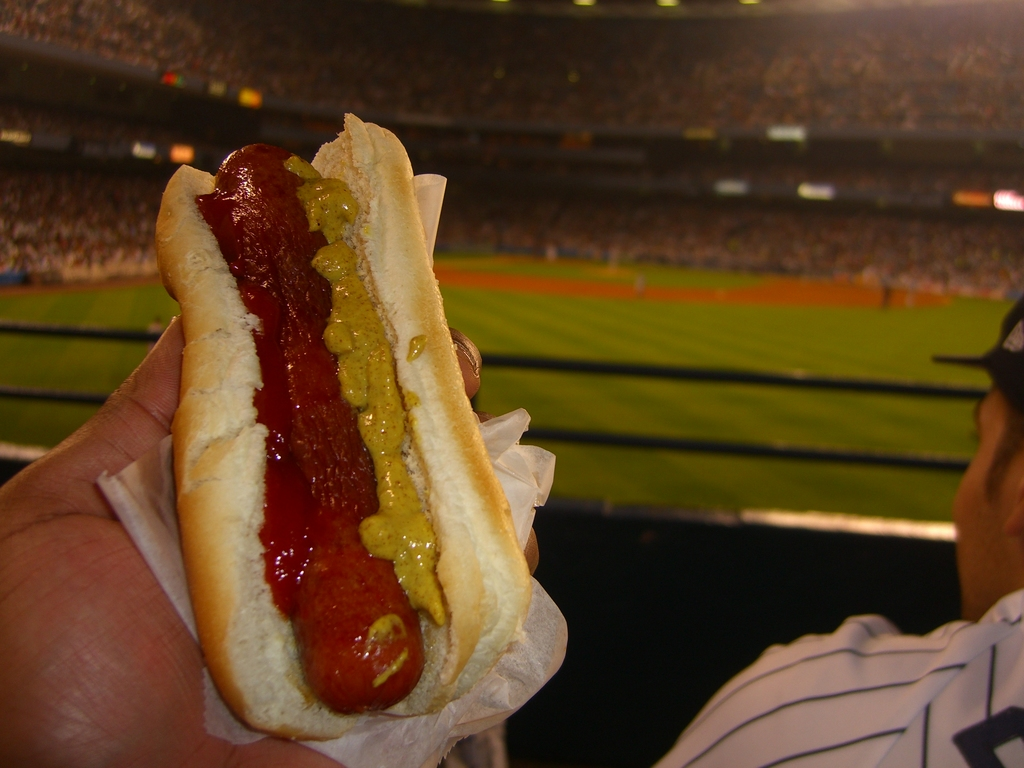hot_dog: (136, 109, 532, 743)
